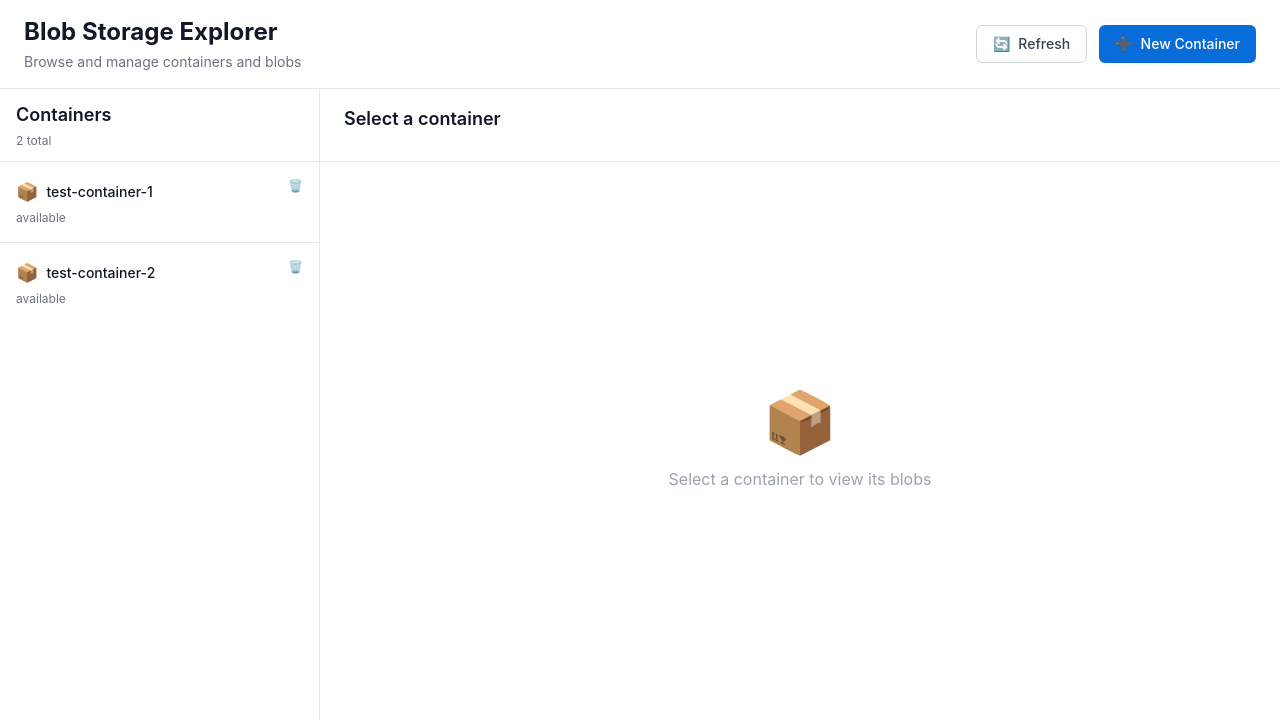
BlobStorage Component › Blob List › shows empty state when no blobs in container
What coordinates should you click on to do the following:
click the heading "test-container-1"
I would click on:
 (100, 192)
Its box is [46, 182, 153, 202].
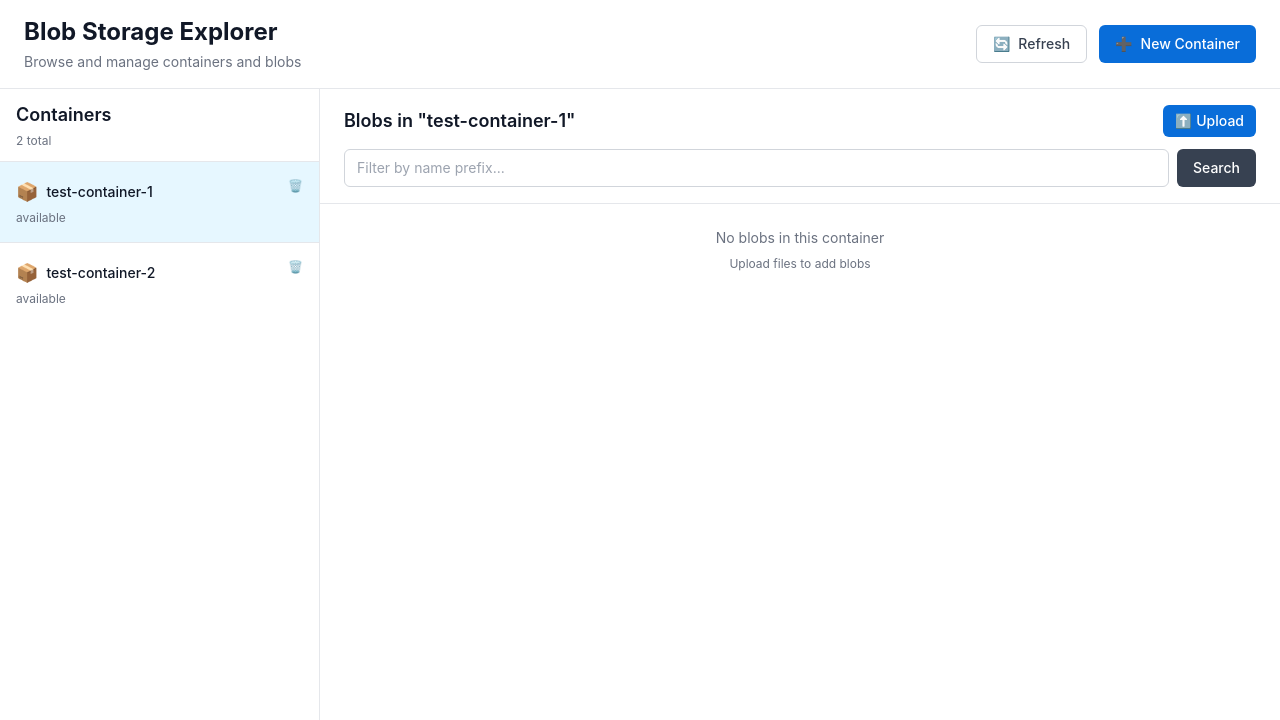
Result: the text "No blobs in this container" is shown at [716, 229, 884, 246]
